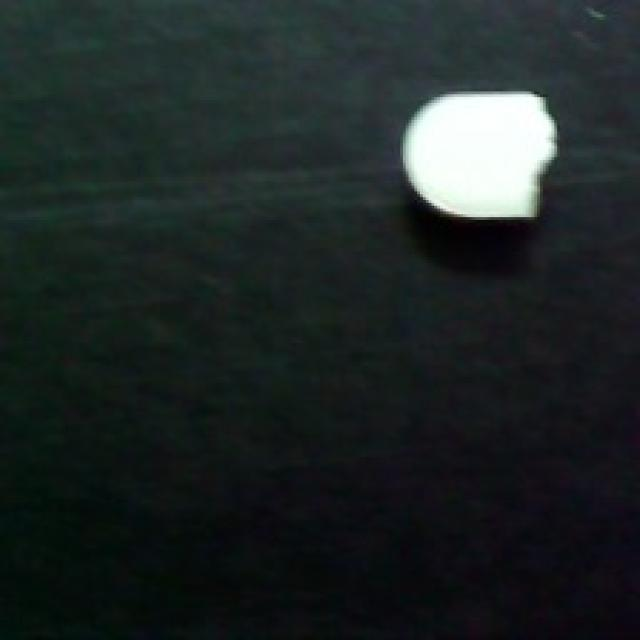defected: (394, 77, 563, 223)
